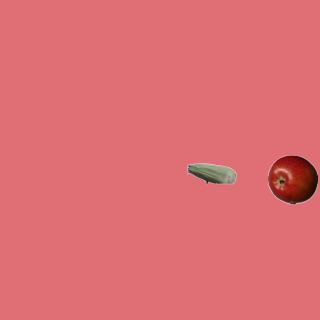Apple Braeburn: (267, 154, 317, 204)
Corn Husk: (186, 148, 236, 198)
